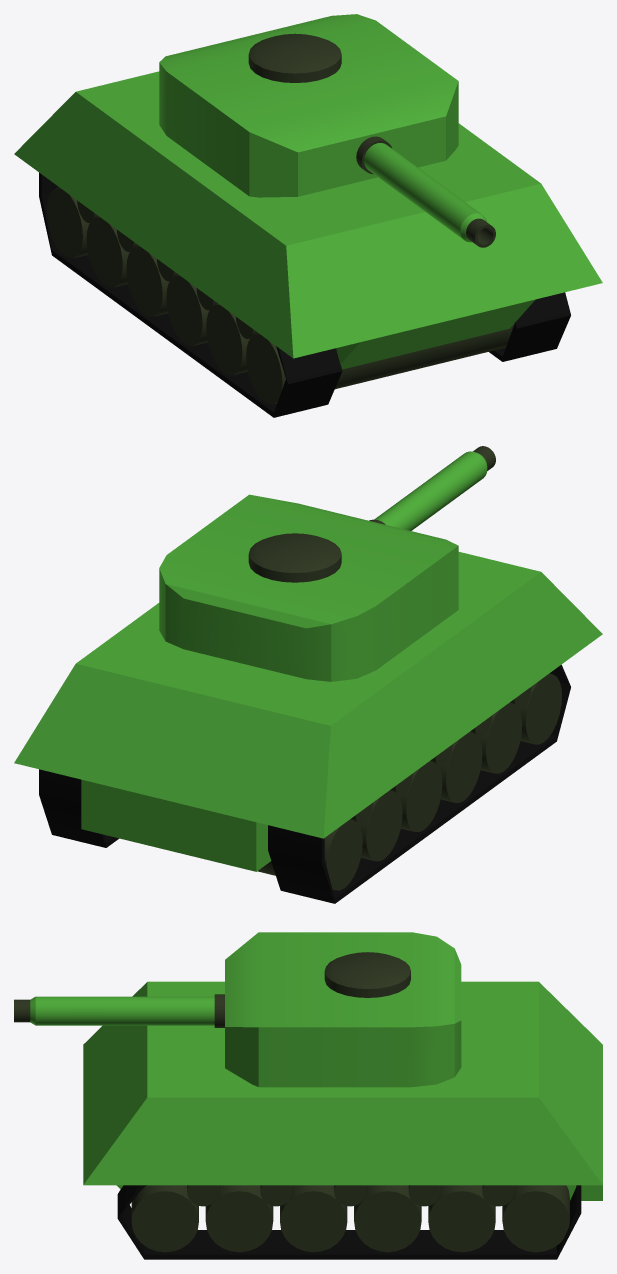
Rendered from tank.fbx.
3 views of the same model, one above another, from view 1: azimuth 30°, elevation 25°; view 2: azimuth 150°, elevation 25°; view 3: azimuth 270°, elevation 25° (orthographic). The views are drawn at different scales.
Visible parts, largest first — view 1: Tank; view 2: Tank; view 3: Tank.
Part boxes in pixels (bbox=[...]): Tank: bbox=[14, 14, 602, 417]; Tank: bbox=[14, 446, 602, 903]; Tank: bbox=[14, 932, 602, 1259].
Bounding box in the file's own units: 128 × 227 × 96.83.
